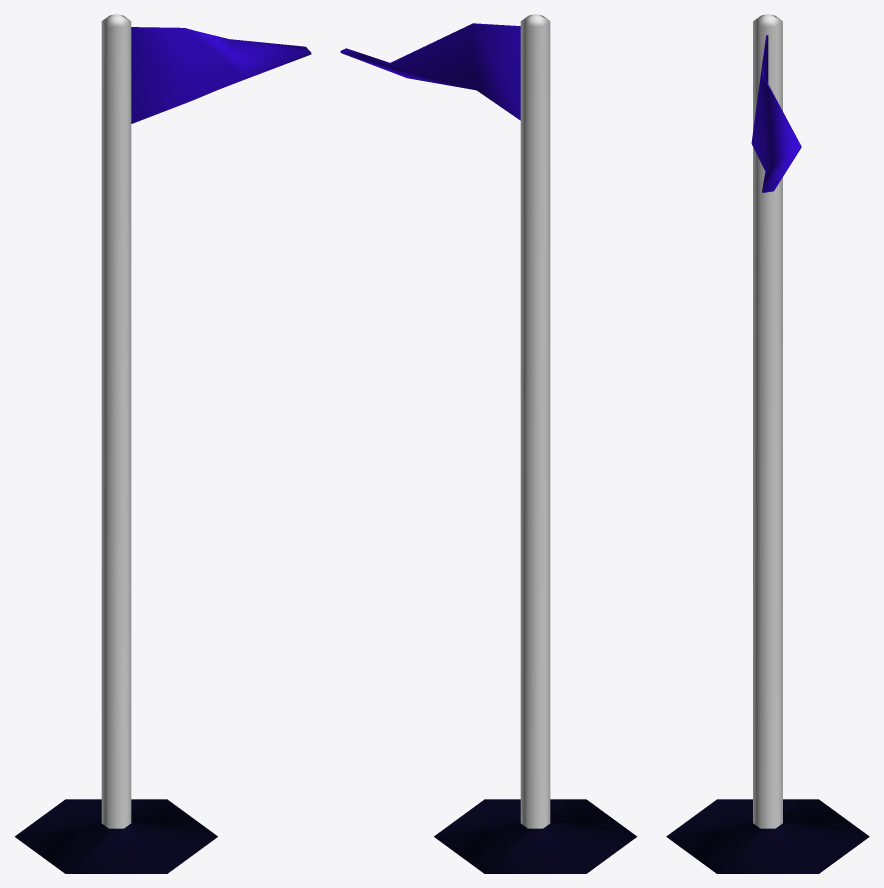
File: flag.fbx
3 views of the same model, side by side, from view 1: azimuth 30°, elevation 25°; view 2: azimuth 150°, elevation 25°; view 3: azimuth 270°, elevation 25° (orthographic).
Visible parts, largest first — view 1: Cylinder; view 2: Cylinder; view 3: Cylinder.
Part boxes in pixels (x1,y1,x2,y2): Cylinder: (14,14,311,873); Cylinder: (340,14,637,873); Cylinder: (666,14,869,873).
Bounding box in the file's own units: 70.09 × 205 × 46.07.
